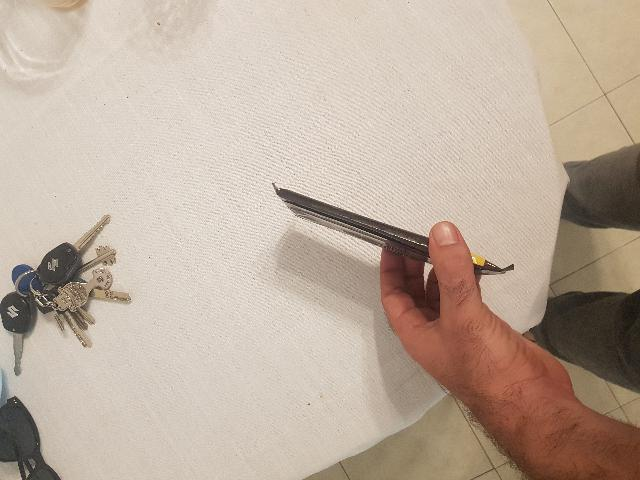chocolate: (261, 168, 493, 299)
